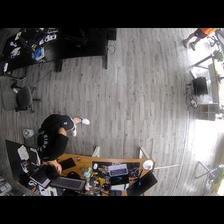normal: (39, 115, 90, 179)
